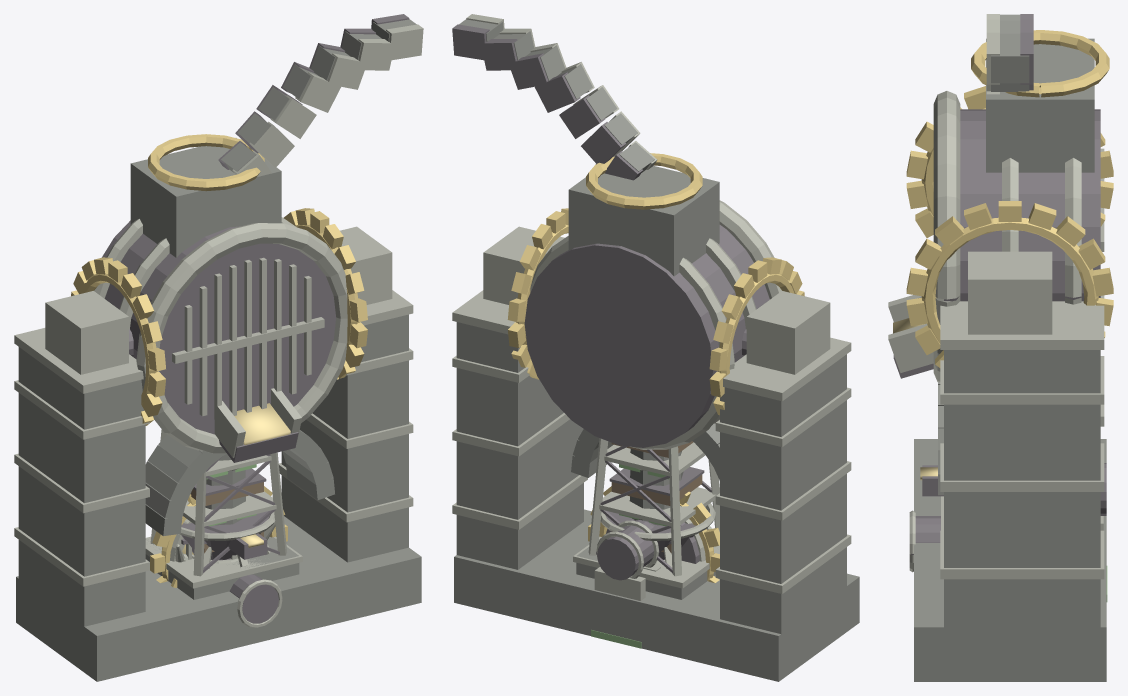
File: InfernalF25Kit.fbx
3 renders of one model, left to right at view 1: azimuth 30°, elevation 25°; view 2: azimuth 150°, elevation 25°; view 3: azimuth 270°, elevation 25°, orthographic. The views are drawn at different scales.
Parts seen in each view (by area): view 1: GreatCrucible__STONE, GreatCrucible__TRIM, GreatCrucible__METAL, GreatCrucible__GOLD, GreatBellows__TRIM, VaultRibArch__TRIM, VaultRibArch__STONE, GreatBellows__METAL, GreatBellows__STONE, PourSpoutChute__METAL, GreatCrucible__GLOW, VaultRibArch__METAL (+3 smaller); view 2: GreatCrucible__STONE, GreatCrucible__METAL, GreatCrucible__TRIM, GreatCrucible__GOLD, GreatBellows__TRIM, VaultRibArch__METAL, VaultRibArch__STONE, DuctManifold__METAL, DuctManifold__TRIM, GreatBellows__METAL, TitanHeartGrate__GOLD, VaultRibArch__TRIM (+3 smaller); view 3: GreatCrucible__STONE, GreatCrucible__TRIM, GreatCrucible__GOLD, GreatCrucible__METAL, VaultRibArch__STONE, VaultRibArch__TRIM, VaultRibArch__METAL, GreatBellows__METAL, GreatBellows__TRIM, PourSpoutChute__METAL.
Part boxes in pixels (x1,y1,x2,y2): GreatCrucible__STONE: [16, 138, 421, 681]; GreatCrucible__TRIM: [14, 217, 413, 586]; GreatCrucible__METAL: [102, 220, 336, 462]; GreatCrucible__GOLD: [71, 134, 367, 425]; GreatBellows__TRIM: [145, 429, 302, 627]; VaultRibArch__TRIM: [228, 24, 423, 471]; VaultRibArch__STONE: [205, 19, 416, 525]; GreatBellows__METAL: [193, 454, 279, 623]; GreatBellows__STONE: [145, 537, 299, 599]; PourSpoutChute__METAL: [181, 511, 269, 559]; GreatCrucible__GLOW: [234, 403, 290, 445]; VaultRibArch__METAL: [218, 14, 409, 169]; GreatCrucible__STONE: [454, 166, 859, 681]; GreatCrucible__METAL: [524, 225, 769, 447]; GreatCrucible__TRIM: [452, 200, 851, 593]; GreatCrucible__GOLD: [507, 153, 804, 415]; GreatBellows__TRIM: [573, 438, 719, 588]; VaultRibArch__METAL: [452, 24, 642, 180]; VaultRibArch__STONE: [459, 19, 683, 525]; DuctManifold__METAL: [597, 519, 659, 580]; DuctManifold__TRIM: [594, 520, 660, 600]; GreatBellows__METAL: [596, 446, 711, 573]; TitanHeartGrate__GOLD: [588, 486, 719, 583]; VaultRibArch__TRIM: [466, 14, 657, 471]; GreatCrucible__STONE: [914, 38, 1106, 681]; GreatCrucible__TRIM: [888, 91, 1104, 579]; GreatCrucible__GOLD: [906, 30, 1113, 367]; GreatCrucible__METAL: [893, 109, 1100, 378]; VaultRibArch__STONE: [991, 14, 1029, 93]; VaultRibArch__TRIM: [986, 14, 999, 94]; VaultRibArch__METAL: [1020, 14, 1033, 90]; GreatBellows__METAL: [911, 516, 940, 554]; GreatBellows__TRIM: [909, 496, 943, 572]; PourSpoutChute__METAL: [922, 465, 943, 496].
Size of the model in its own units: 82.14 by 121 by 37.41.
